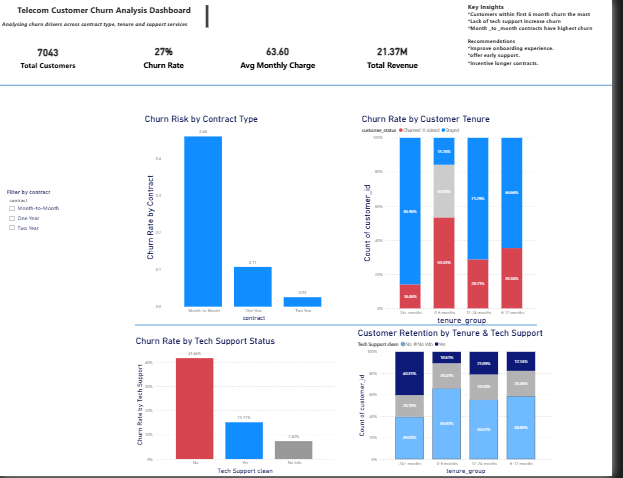

The dashboard page shown, as its layout file describes it:
{"tool":"powerbi","page":{"name":"Page 1","canvas":[1800,1400],"ordinal":0},"visuals":[{"type":"shape","box":[331.1,333.3,1255.6,1066.7],"z":0},{"type":"card","fields":{"Values":["public churn_analysis_view.Total Customers"]},"box":[0,116.7,282.2,95.6],"z":1000},{"type":"card","fields":{"Values":["public churn_analysis_view.Measure 2 Churn Rate"]},"box":[339.8,116.7,280,95.6],"z":2000},{"type":"hundredPercentStackedColumnChart","title":" Churn Rate by Customer Tenure ","fields":{"Category":["public churn_analysis_view.tenure_group"],"Series":["public churn_analysis_view.customer_status"],"Y":["Count(public churn_analysis_view.customer_id)"]},"box":[1060,333.3,526.7,628.9],"z":3000},{"type":"clusteredColumnChart","title":"Churn Rate by Tech Support Status","fields":{"Y":["public churn_analysis_view.Churn Rate percentage"],"Category":["public churn_analysis_view.Tech Support clean"]},"box":[395.4,986.2,593.8,413.8],"z":4000},{"type":"card","fields":{"Values":["public churn_analysis_view.Total Revenue"]},"box":[1015,116.7,278.3,96.7],"z":5000},{"type":"card","fields":{"Values":["public churn_analysis_view.Avg Monthly Charge"]},"box":[677.4,116.7,280,96.7],"z":6000},{"type":"hundredPercentStackedColumnChart","title":"Customer Retention by Tenure & Tech Support","fields":{"Category":["public churn_analysis_view.tenure_group"],"Y":["CountNonNull(public churn_analysis_view.customer_id)"],"Series":["public churn_analysis_view.Tech Support clean"]},"box":[1047.1,961.8,579.4,438.2],"z":7000},{"type":"slicer","title":"Filter by contract","fields":{"Values":["public churn_analysis_view.contract"]},"box":[15.6,555.6,253.3,144.4],"z":8000},{"type":"clusteredColumnChart","title":"Churn Risk by  Contract Type","fields":{"Category":["public churn_analysis_view.contract"],"Y":["public churn_analysis_view.Churn Rate by Contract"]},"box":[420.6,332.4,594.1,617.6],"z":9000},{"type":"textbox","box":[0,0,618.5,86.2],"z":10000},{"type":"textbox","box":[1371.1,0,428.9,231.1],"z":11000},{"type":"shape","box":[0,245,1800,13.3],"z":14000},{"type":"shape","box":[397.1,950,1182.4,11.8],"z":15000}]}

Visuals, with their boxes in screenshot pixels (x1, y1, x2, y2), scaled from the page's 1800x1400 canvas onto the 623x478 screenshot:
shape: bbox=(115, 114, 549, 477)
card - public churn_analysis_view.Total Customers: bbox=(0, 40, 98, 72)
card - public churn_analysis_view.Measure 2 Churn Rate: bbox=(118, 40, 215, 72)
" Churn Rate by Customer Tenure " hundredPercentStackedColumnChart: bbox=(367, 114, 549, 329)
"Churn Rate by Tech Support Status" clusteredColumnChart: bbox=(137, 337, 342, 477)
card - public churn_analysis_view.Total Revenue: bbox=(351, 40, 448, 73)
card - public churn_analysis_view.Avg Monthly Charge: bbox=(234, 40, 331, 73)
"Customer Retention by Tenure & Tech Support" hundredPercentStackedColumnChart: bbox=(362, 328, 563, 477)
"Filter by contract" slicer: bbox=(5, 190, 93, 239)
"Churn Risk by  Contract Type" clusteredColumnChart: bbox=(146, 113, 351, 324)
textbox: bbox=(0, 0, 214, 29)
textbox: bbox=(475, 0, 622, 79)
shape: bbox=(0, 84, 622, 88)
shape: bbox=(137, 324, 547, 328)
